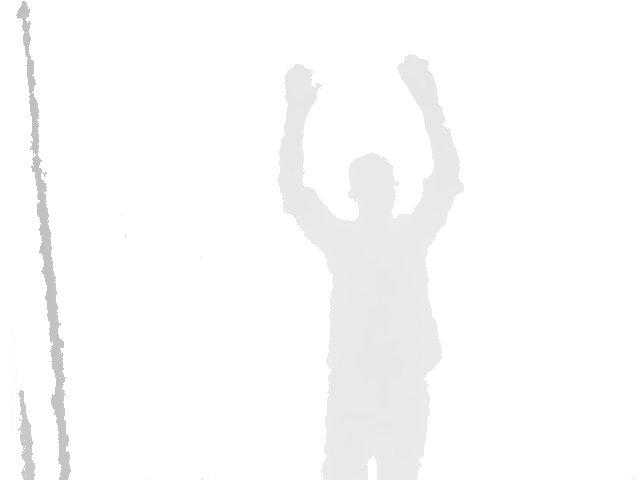hand: (283, 64, 323, 122), (397, 54, 439, 107)
head: (347, 153, 400, 216)
person: (276, 54, 465, 480)
